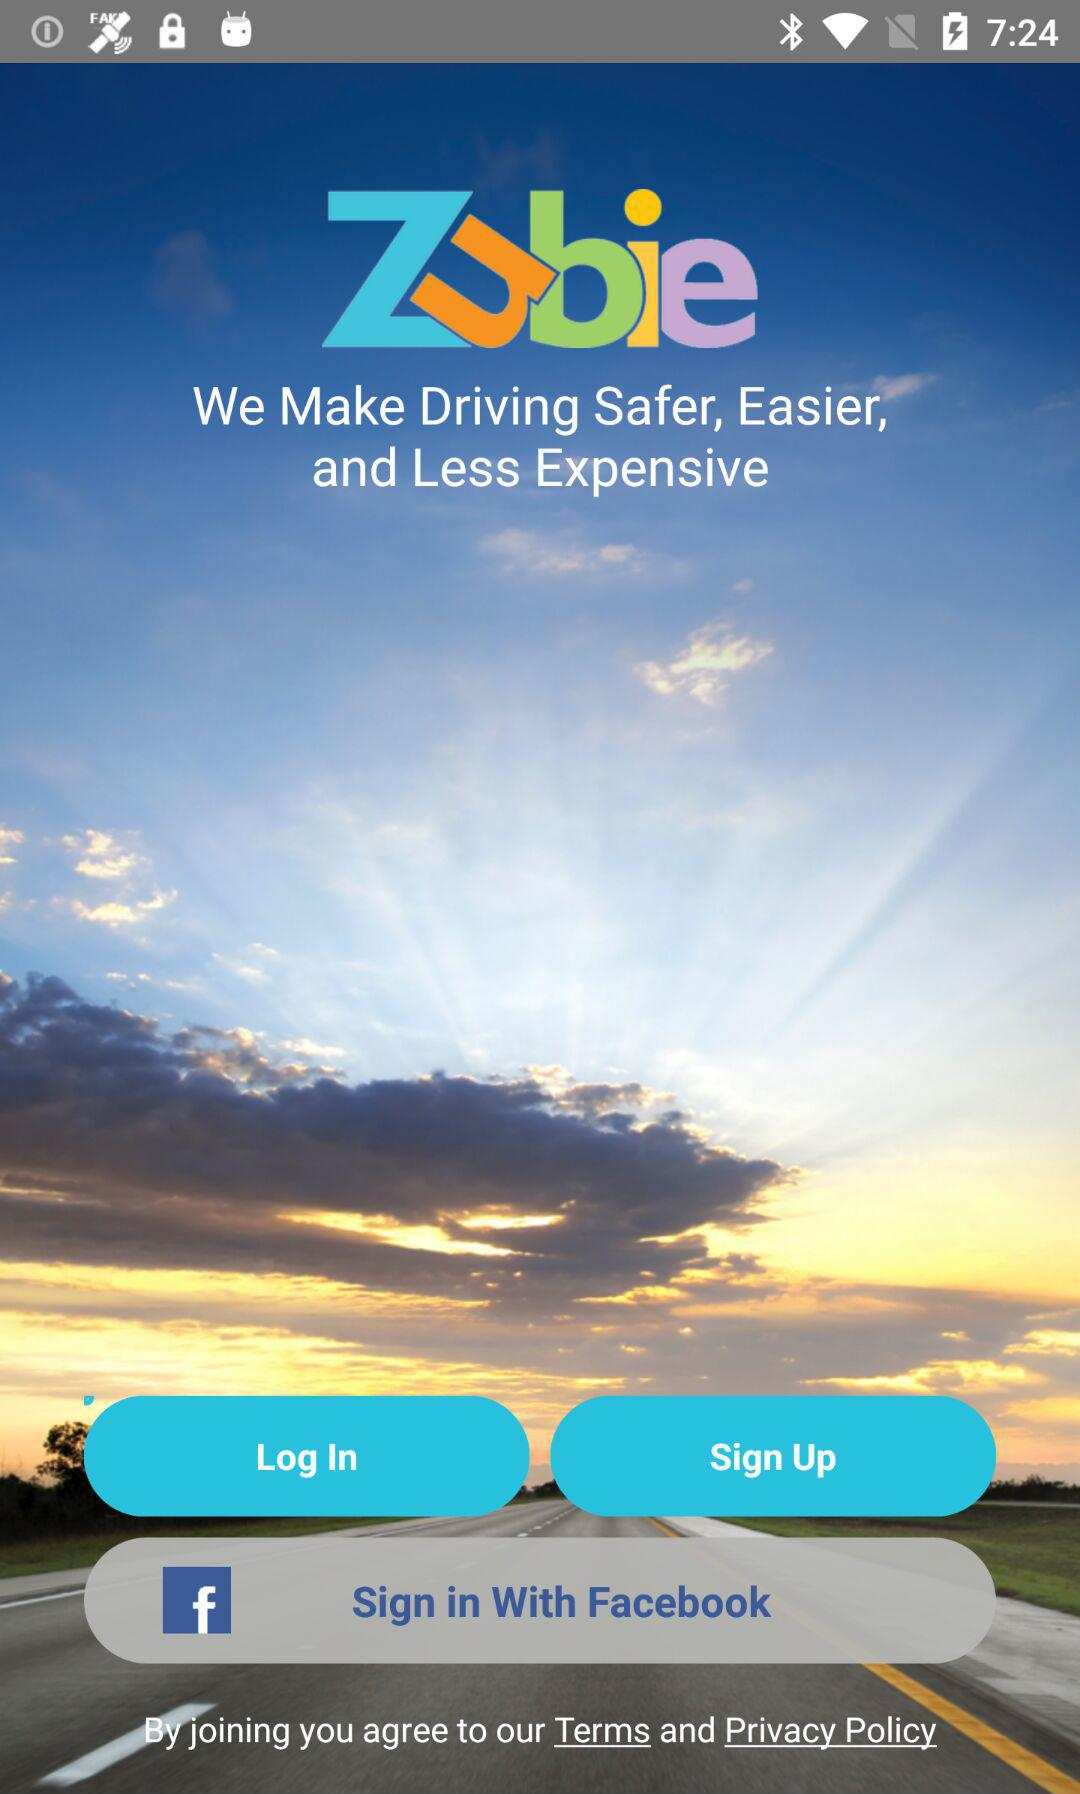BackgroundImage: (1, 64, 1080, 1794)
Image: (320, 190, 758, 350)
Text: (192, 382, 888, 501), (143, 1712, 942, 1753)
TextButton: (83, 1536, 997, 1665), (550, 1395, 997, 1518), (85, 1395, 530, 1518)
UpperTaskBar: (1, 1, 1080, 64)
